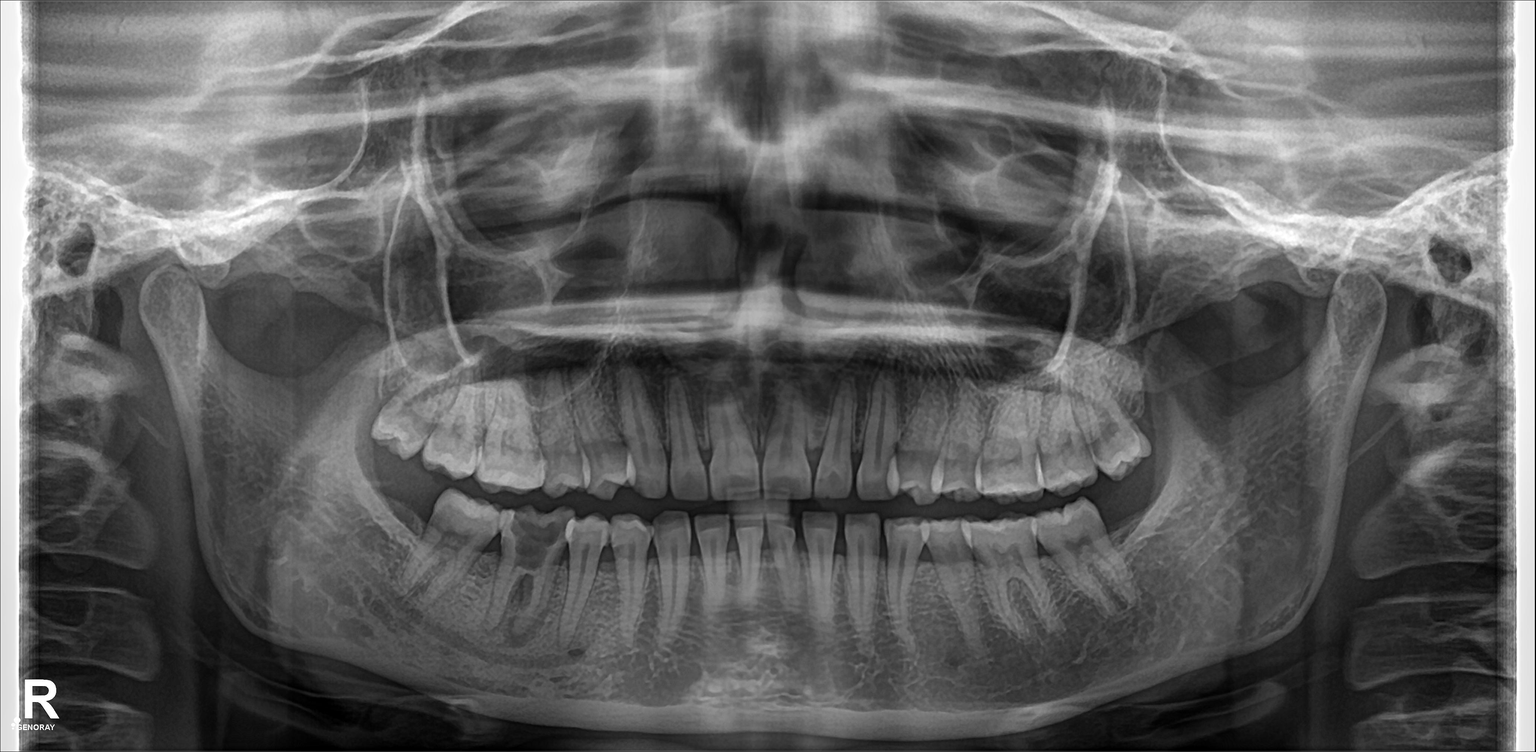Dental Caries: (505, 523, 565, 567)
Missing Tooth: (371, 478, 431, 597), (1096, 495, 1168, 579)
